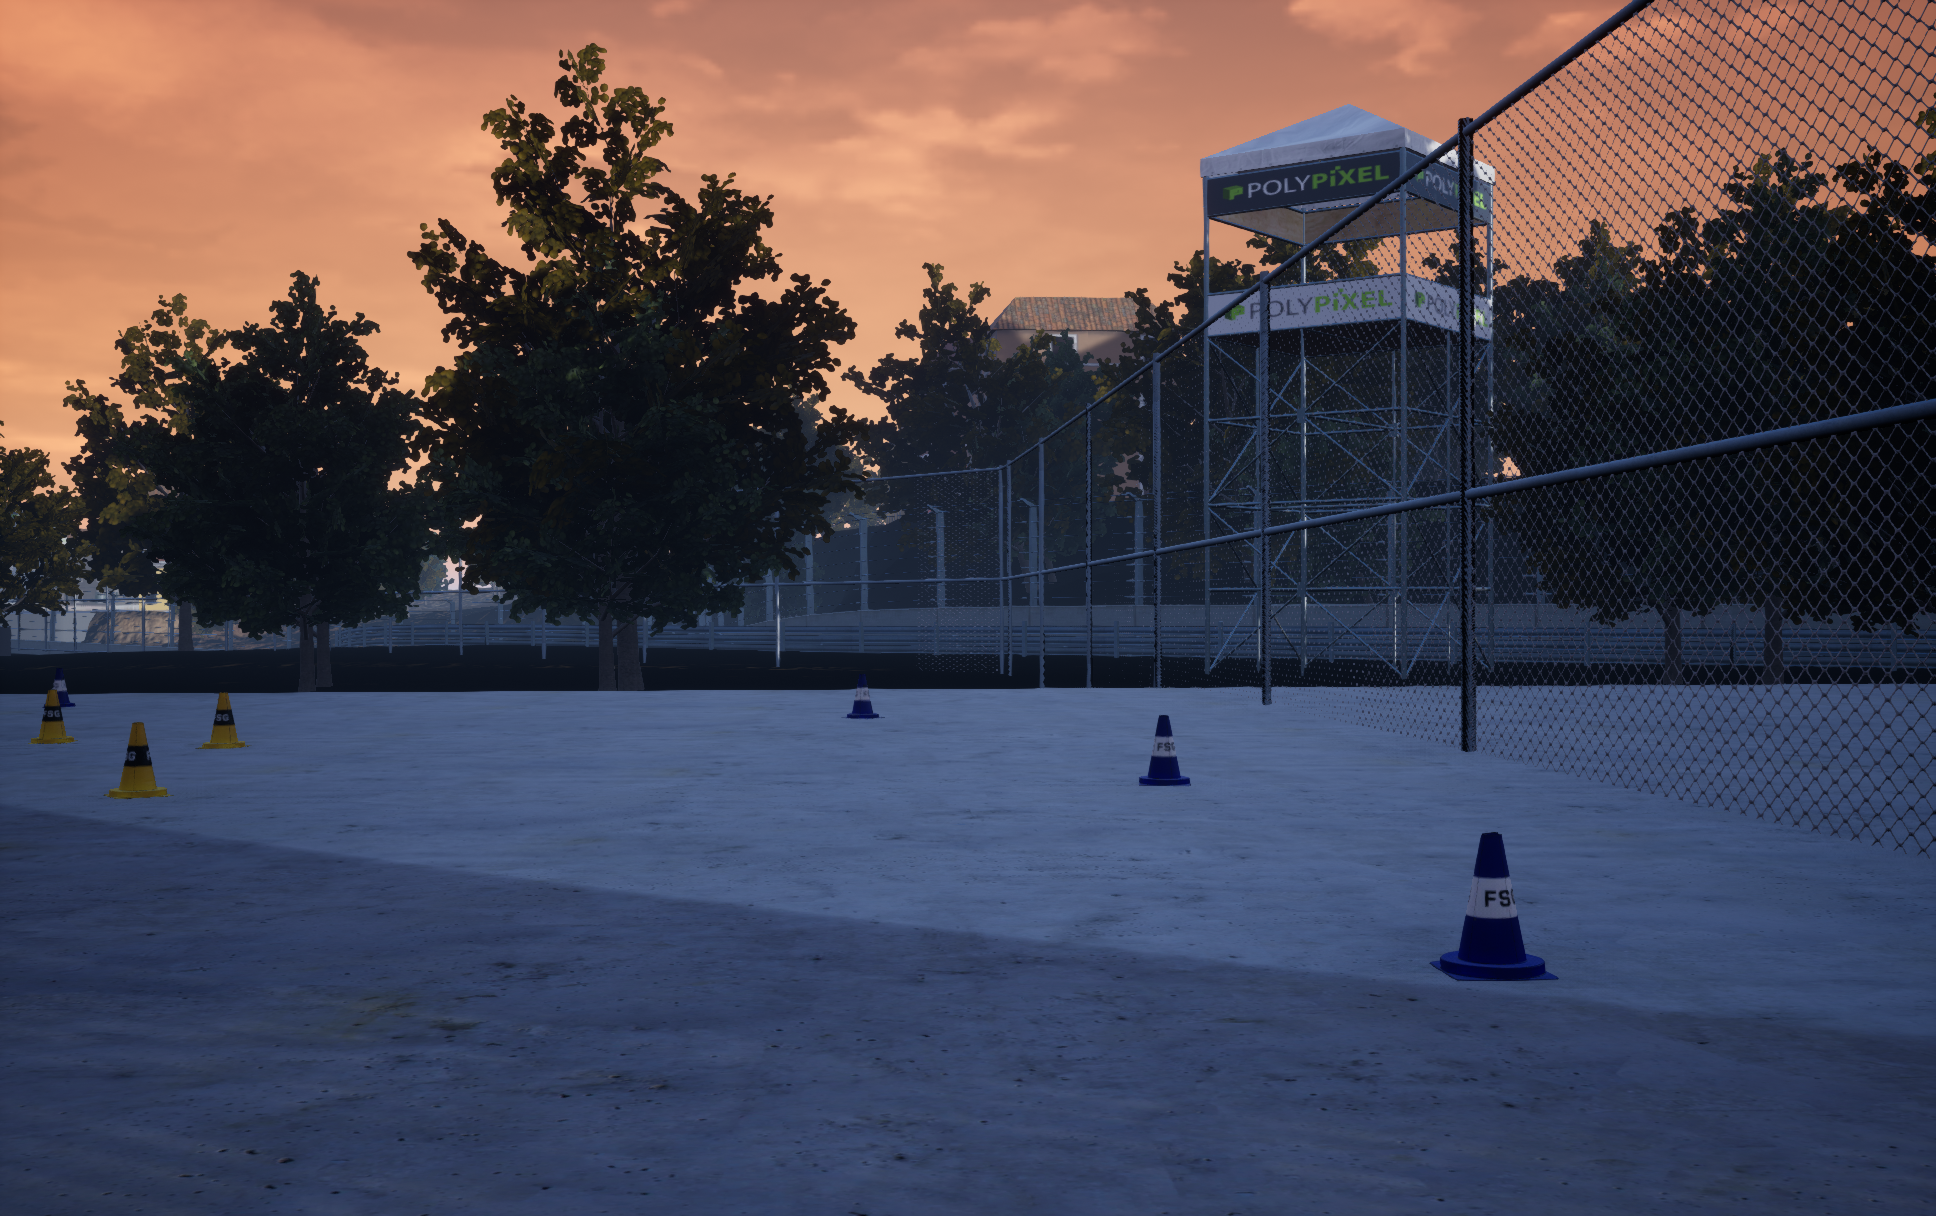blue: (104, 721, 172, 799), (195, 692, 251, 748), (28, 689, 77, 742)
yellow: (1429, 832, 1558, 981), (1139, 714, 1189, 785), (841, 674, 884, 719), (42, 668, 76, 707)
